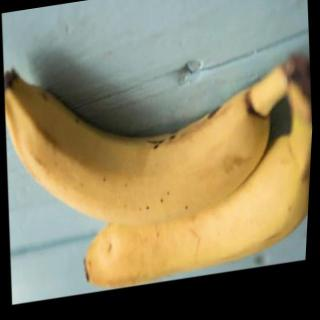banana: (0, 32, 282, 249), (74, 131, 314, 298)
